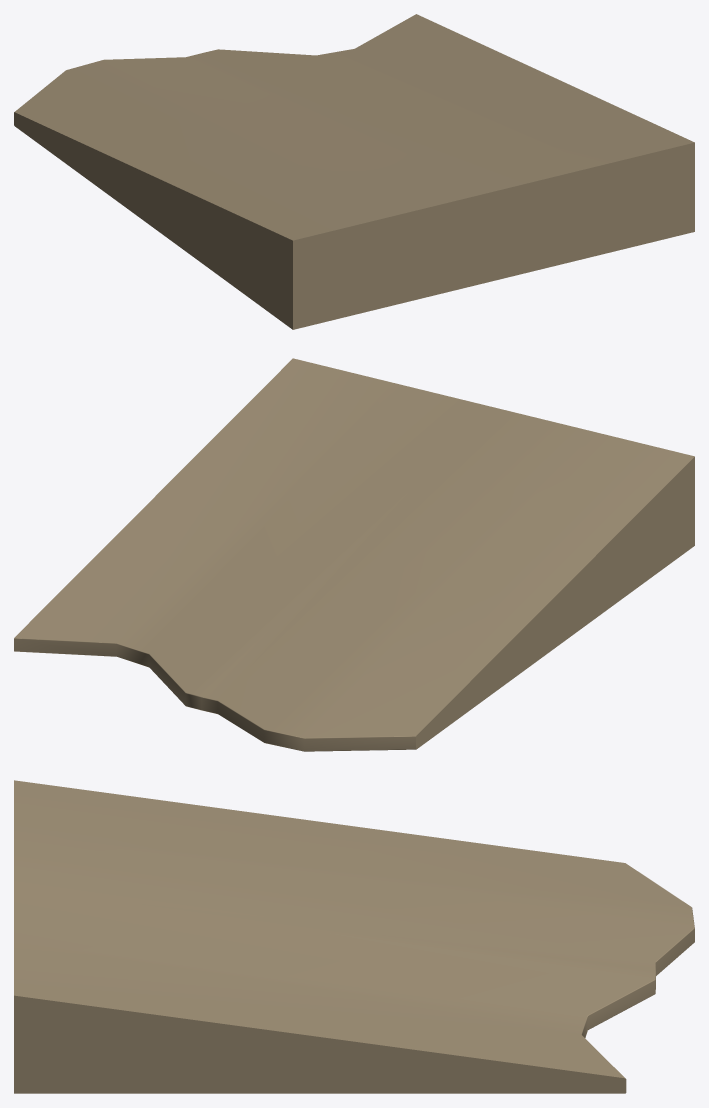
Rendered from Ground 4.fbx.
The picture shows the model from 3 angles, top to bottom: view 1: azimuth 30°, elevation 25°; view 2: azimuth 150°, elevation 25°; view 3: azimuth 270°, elevation 25°; orthographic projection. The views are drawn at different scales.
Visible parts, largest first — view 1: pCube7; view 2: pCube7; view 3: pCube7.
Boxes of the visible parts, left/top/right/bottom form: pCube7: left=14, top=14, right=694, bottom=329; pCube7: left=14, top=358, right=694, bottom=751; pCube7: left=14, top=780, right=694, bottom=1093.
Size of the model in its own units: 5.24 by 1.11 by 7.01.
